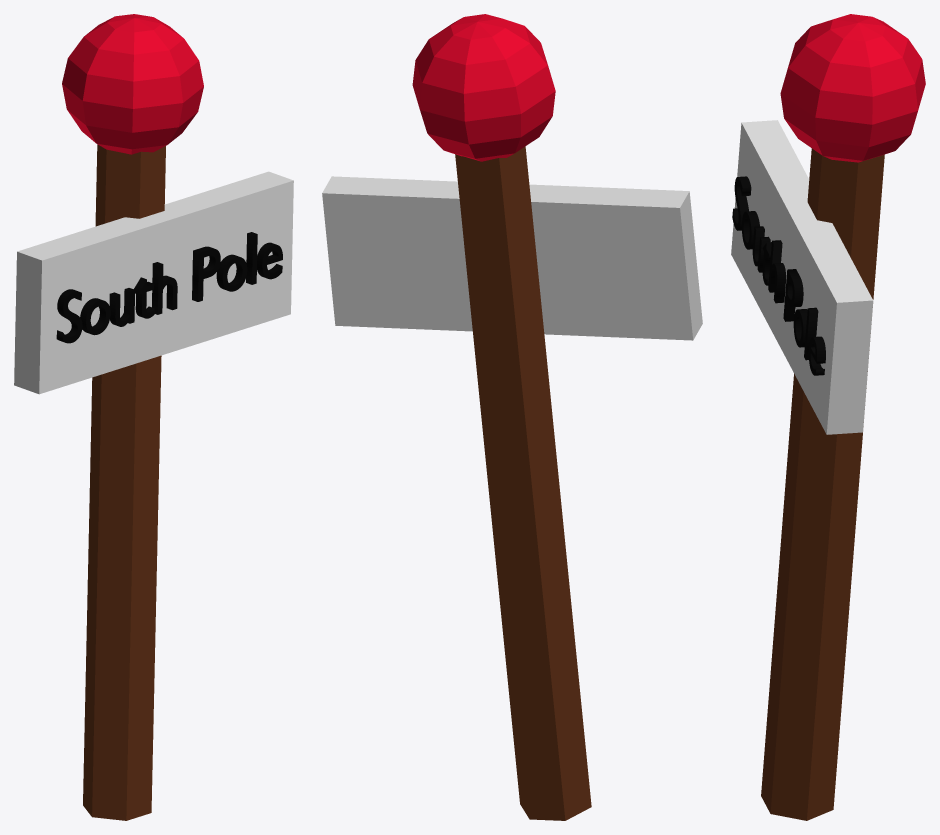
Rendered from southpole.gltf.
The picture shows the model from 3 angles, left to right: view 1: azimuth 30°, elevation 25°; view 2: azimuth 150°, elevation 25°; view 3: azimuth 270°, elevation 25°; orthographic projection. The views are drawn at different scales.
Visible parts, largest first — view 1: Cylinder.009, Cube.014, Sphere.001, Text.001; view 2: Cylinder.009, Cube.014, Sphere.001; view 3: Cylinder.009, Cube.014, Sphere.001, Text.001.
Boxes of the visible parts, x1,y1,x2,y2 form: Cylinder.009: [83, 144, 165, 820]; Cube.014: [14, 171, 293, 394]; Sphere.001: [62, 14, 203, 154]; Text.001: [56, 232, 282, 343]; Cylinder.009: [455, 146, 591, 820]; Cube.014: [322, 176, 702, 340]; Sphere.001: [412, 14, 555, 161]; Cylinder.009: [761, 148, 884, 820]; Cube.014: [731, 120, 873, 434]; Sphere.001: [780, 14, 925, 162]; Text.001: [732, 176, 825, 375].
Size of the model in its own units: 1.02 by 2.36 by 0.517.
